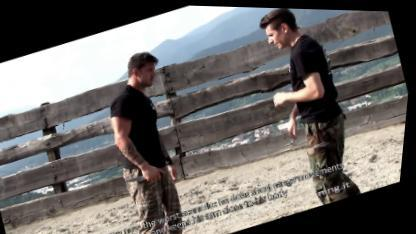knife: (121, 161, 166, 192)
